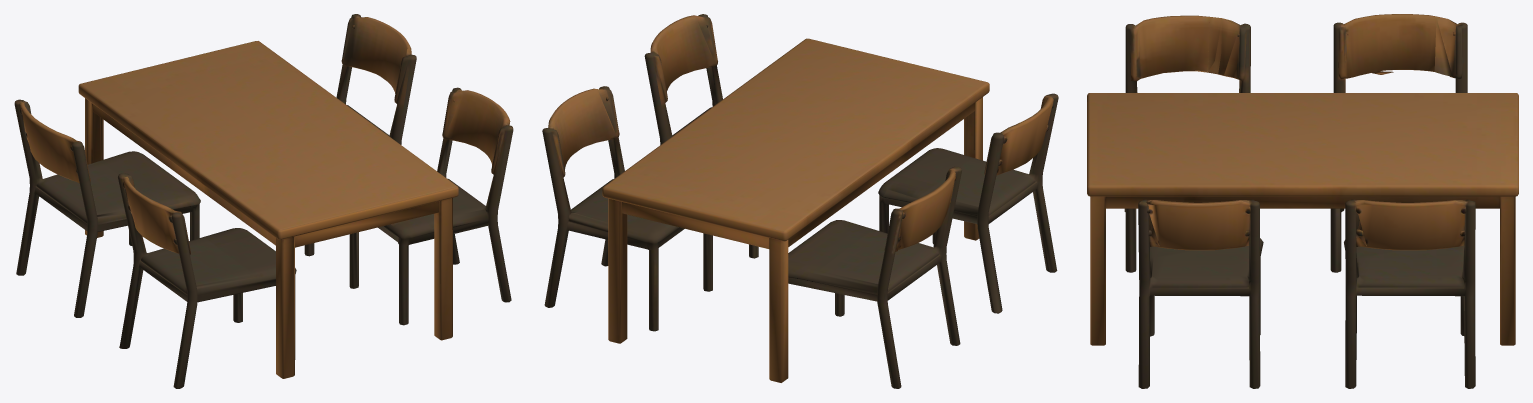
Rendered from break_room_table_09b9fd0d_v4.glb.
3 views of the same model, side by side, from view 1: azimuth 30°, elevation 25°; view 2: azimuth 150°, elevation 25°; view 3: azimuth 270°, elevation 25° (orthographic). The views are drawn at different scales.
Parts seen in each view (by area): view 1: material; view 2: material; view 3: material.
Part boxes in pixels (x1,y1,x2,y2): material: [14, 14, 513, 388]; material: [542, 14, 1058, 388]; material: [1087, 14, 1518, 388].
Bounding box in the file's own units: 1.9 × 0.8807 × 1.81.
Materials: 1 (1 with a texture image).
